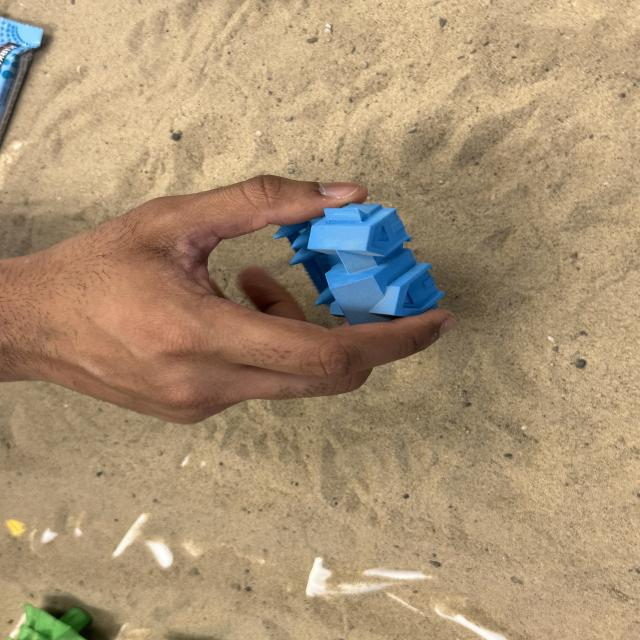house: (272, 201, 446, 326)
